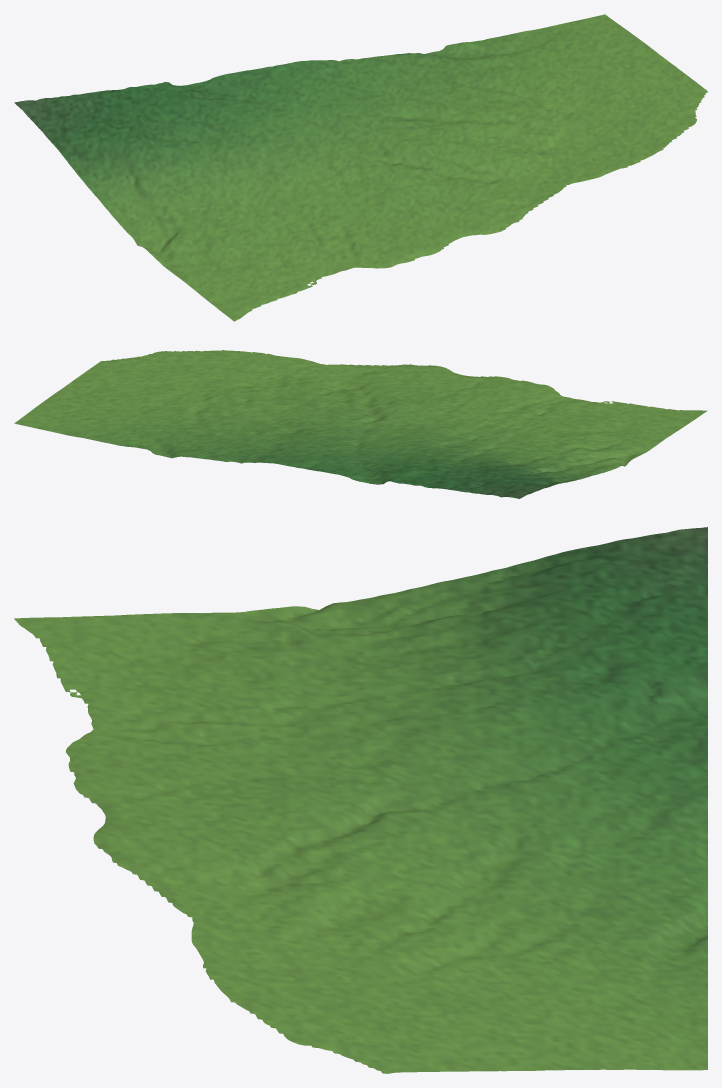
The model's file is lareunion-terrain-14.glb.
3 views of the same model, one above another, from view 1: azimuth 30°, elevation 25°; view 2: azimuth 150°, elevation 25°; view 3: azimuth 270°, elevation 25° (orthographic). The views are drawn at different scales.
Visible parts, largest first — view 1: LaReunionRgeAltiTerrain_14; view 2: LaReunionRgeAltiTerrain_14; view 3: LaReunionRgeAltiTerrain_14.
Part boxes in pixels (box(x1,y1,x2,y2)): LaReunionRgeAltiTerrain_14: box(14, 14, 707, 321); LaReunionRgeAltiTerrain_14: box(14, 350, 707, 498); LaReunionRgeAltiTerrain_14: box(14, 527, 707, 1073).
Bounding box in the file's own units: 55.14 × 5.18 × 35.52.
